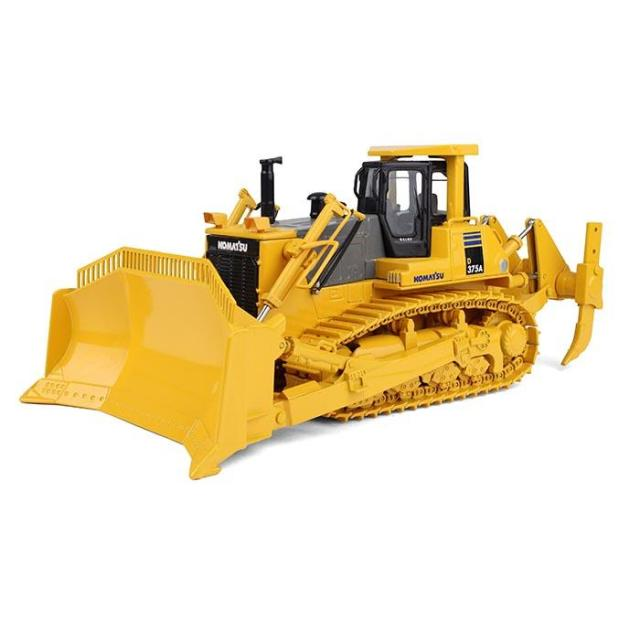buldozerpayloadergrader: (19, 129, 613, 477)
